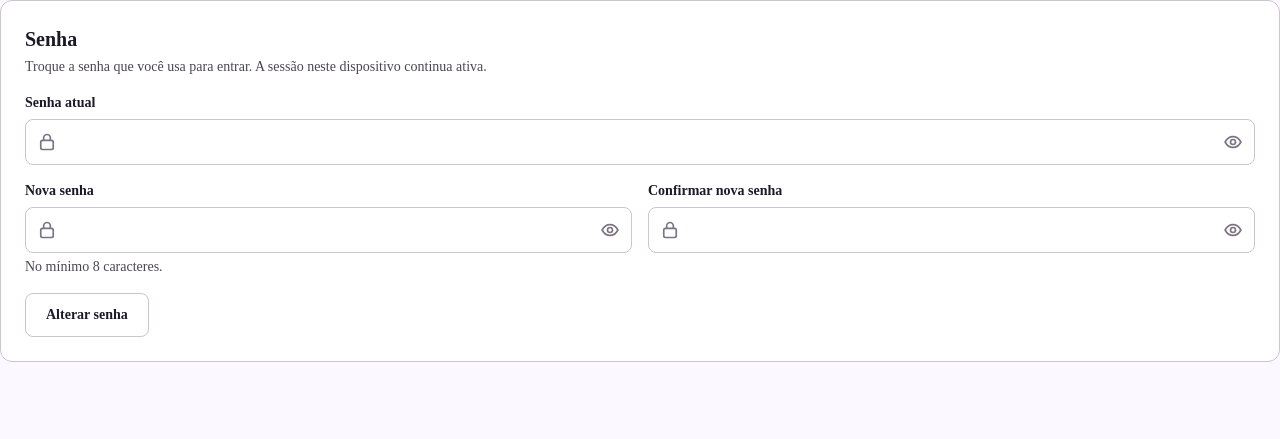
Test: ChangePasswordForm (VES-92) › shows a top-level error
Type "antiga-123" into the password field labelled "Senha atual". click: (640, 142)
box: [25, 119, 1255, 165]
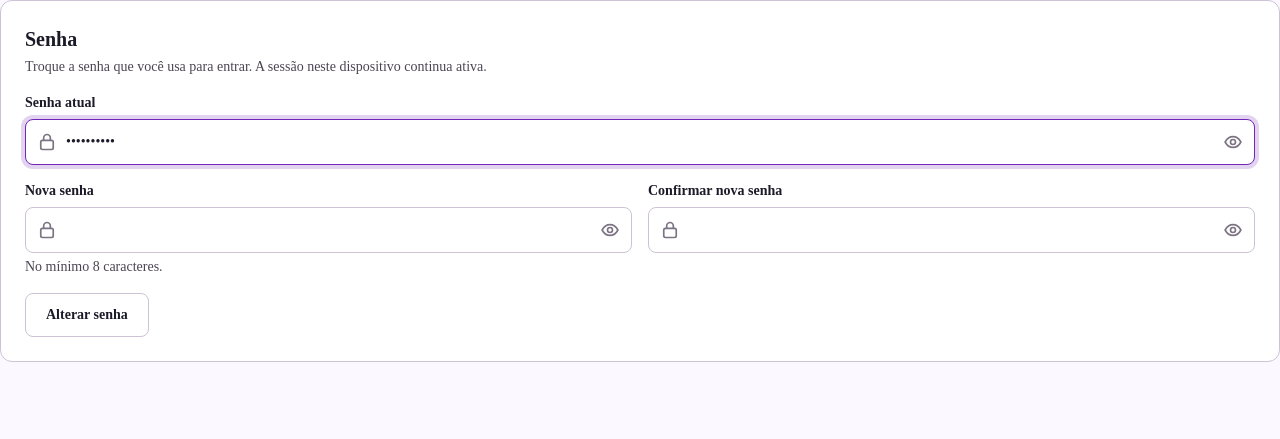
Type "nova-senha-1" into the password field labelled "Nova senha". click: (328, 230)
box: [25, 207, 632, 253]
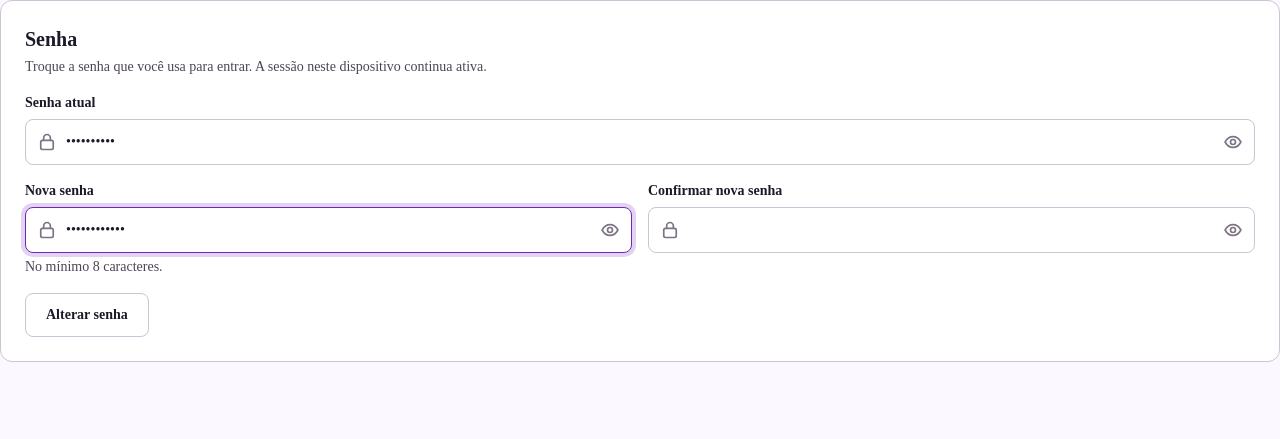
Type "nova-senha-1" into the password field labelled "Confirmar nova senha". click: (952, 230)
box: [648, 207, 1255, 253]
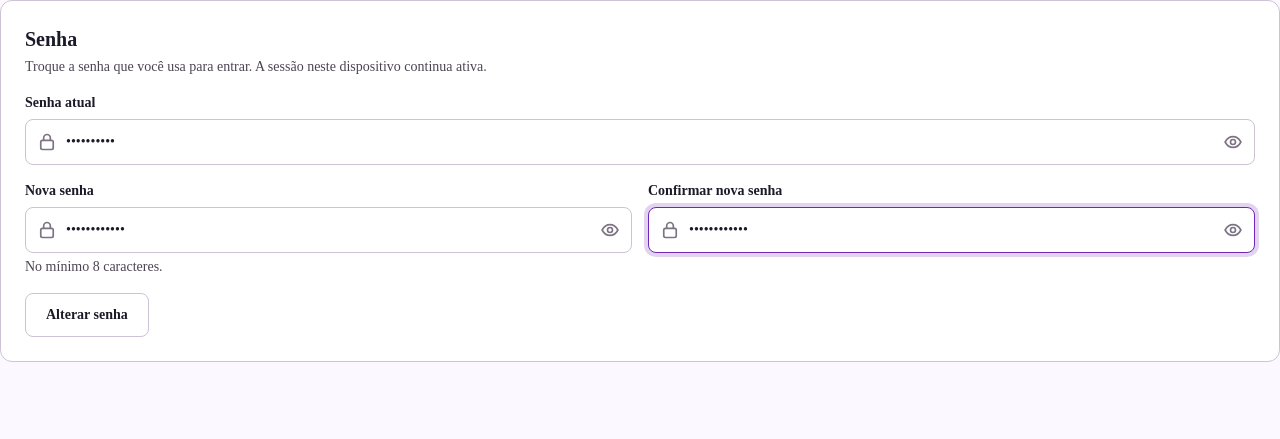
Click the button "Alterar senha". click: (87, 315)
box: [25, 293, 149, 337]
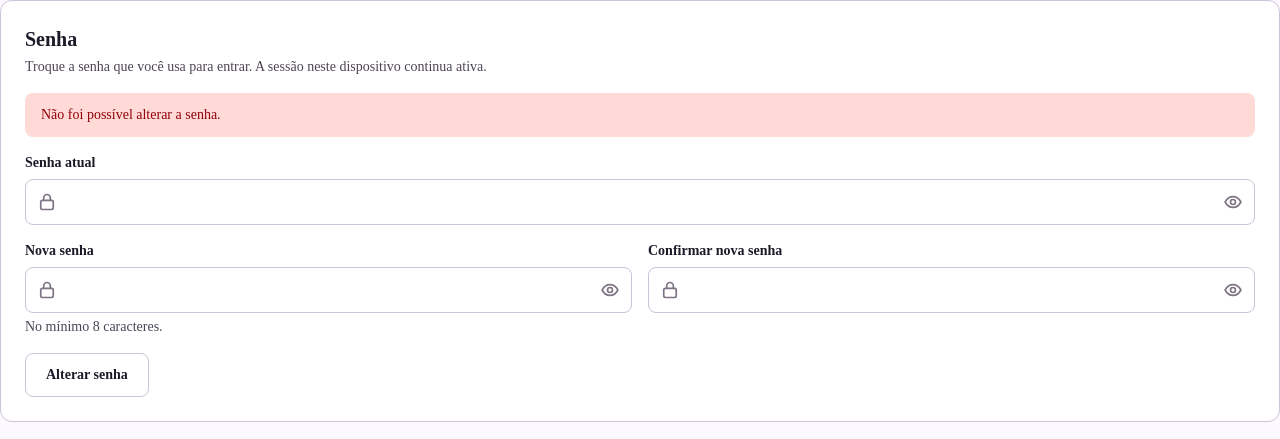
Now the message reads "Não foi possível alterar a senha.", box [41, 107, 221, 122]
